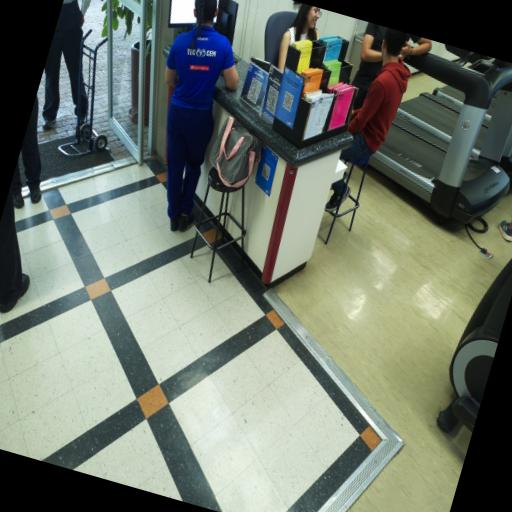person: (165, 0, 238, 231), (340, 28, 410, 160), (43, 0, 91, 130), (0, 195, 29, 313), (352, 23, 387, 109), (278, 3, 321, 70), (20, 97, 41, 203), (499, 221, 511, 241)
